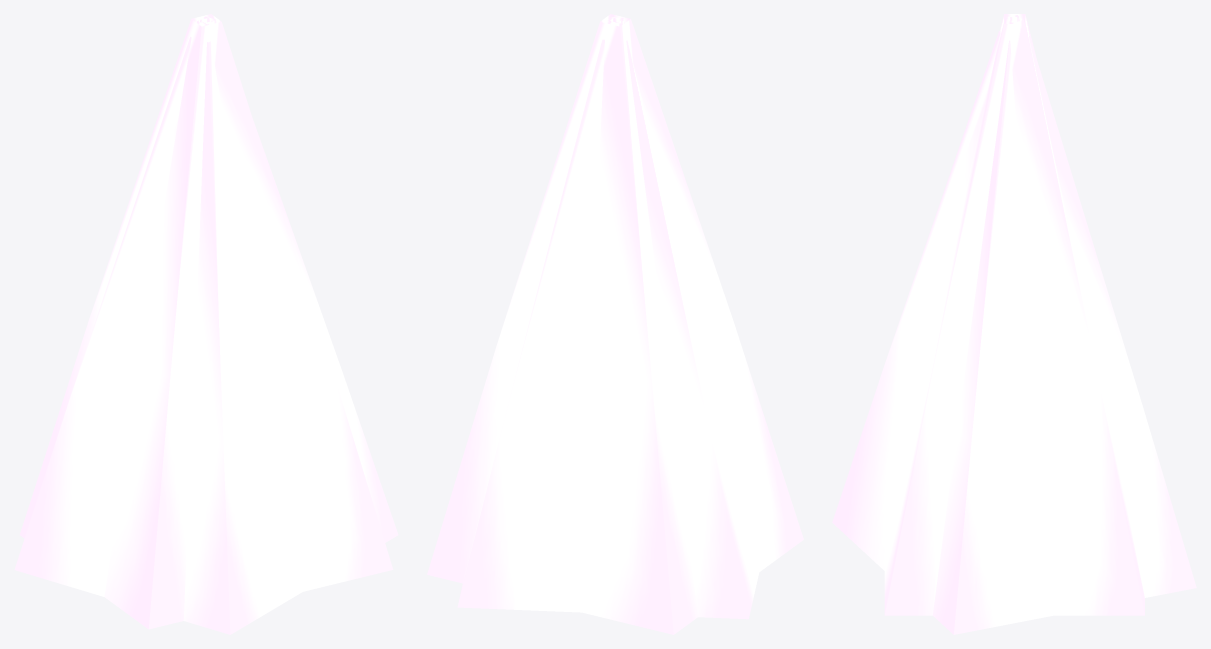
The model's file is sunlight.glb.
3 renders of one model, left to right at view 1: azimuth 30°, elevation 25°; view 2: azimuth 150°, elevation 25°; view 3: azimuth 270°, elevation 25°, orthographic.
Visible parts, largest first — view 1: sunlight; view 2: sunlight; view 3: sunlight.
Boxes of the visible parts, x1=… form: sunlight: x1=14, y1=14, x2=398, y2=634; sunlight: x1=427, y1=14, x2=803, y2=634; sunlight: x1=832, y1=14, x2=1196, y2=634.
Bounding box in the file's own units: 5.13 × 8.06 × 4.96.
Materials: 2 (2 with a texture image).
